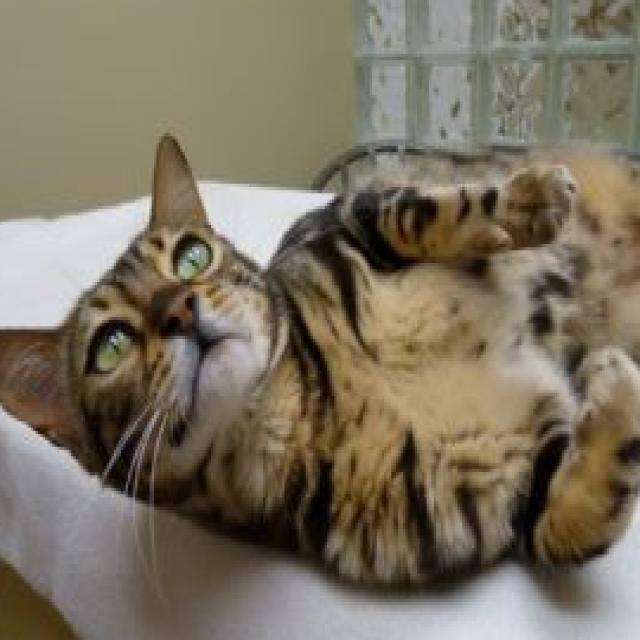Bengal: (0, 120, 640, 596)
